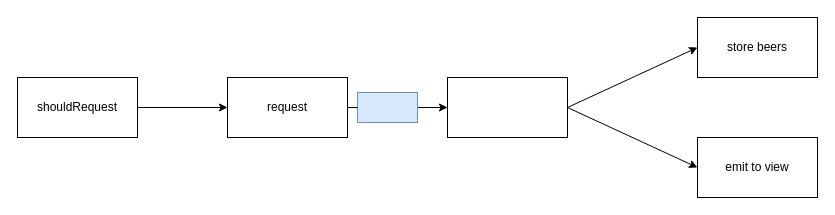
This 835x215 diagram has some shape labels left out. The box of each missing label's shape, as (x1, y1, x2, y2) in pixels:
fetchedBeers: (446, 76, 568, 138)
share(): (356, 92, 418, 122)
